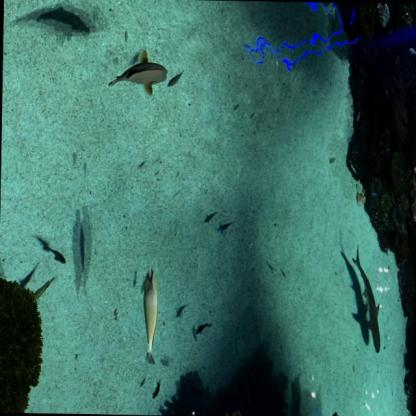fish: (109, 52, 169, 98), (36, 5, 92, 38), (141, 266, 159, 367), (31, 277, 53, 303), (48, 241, 66, 267), (166, 69, 184, 87), (192, 320, 210, 338), (151, 376, 162, 402), (79, 225, 85, 270), (216, 220, 232, 235), (204, 211, 217, 223)
shark: (351, 243, 382, 354)
